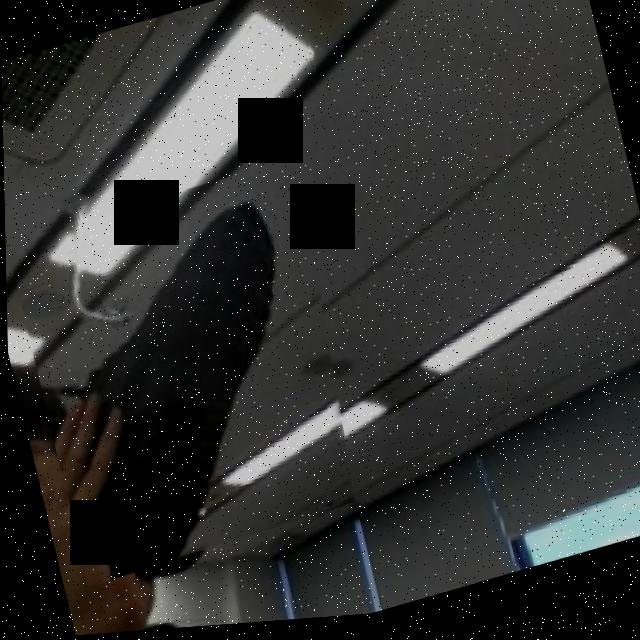shoe: (3, 157, 379, 593)
